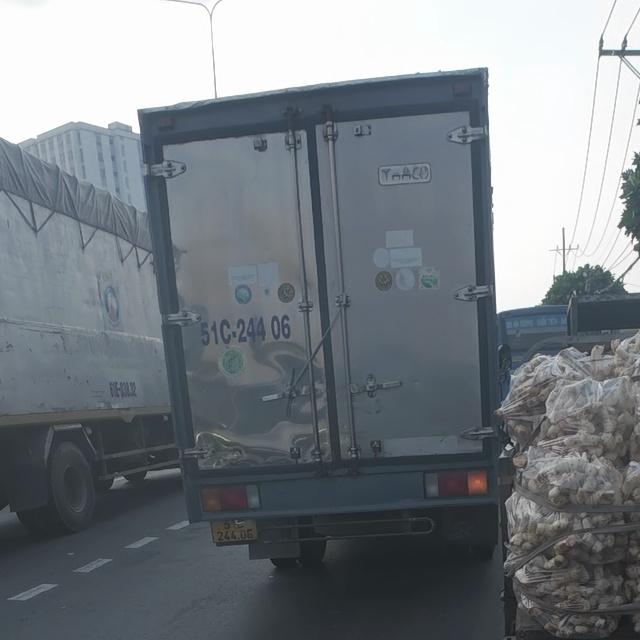license-plate: (210, 518, 259, 545)
